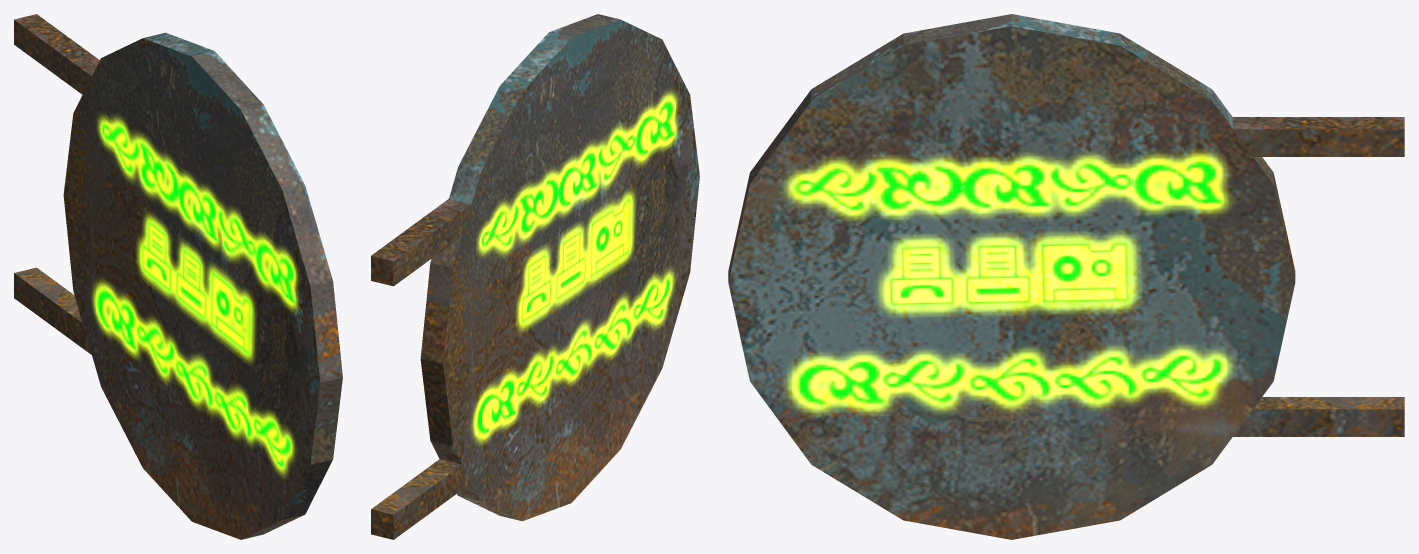
File: neonSign_4.fbx
3 views of the same model, side by side, from view 1: azimuth 30°, elevation 25°; view 2: azimuth 150°, elevation 25°; view 3: azimuth 270°, elevation 25° (orthographic). The views are drawn at different scales.
Parts seen in each view (by area): view 1: Cylinder; view 2: Cylinder; view 3: Cylinder.
Part boxes in pixels (x1=…): Cylinder: x1=14, y1=14, x2=342, y2=539; Cylinder: x1=371, y1=14, x2=699, y2=539; Cylinder: x1=728, y1=14, x2=1404, y2=539.
Size of the model in its own units: 12.95 by 254 by 303.
